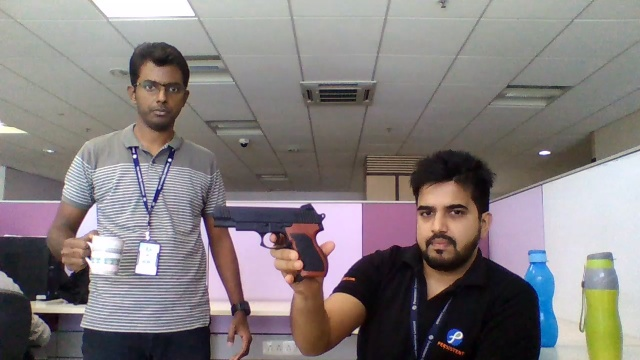gun: (211, 202, 322, 251)
